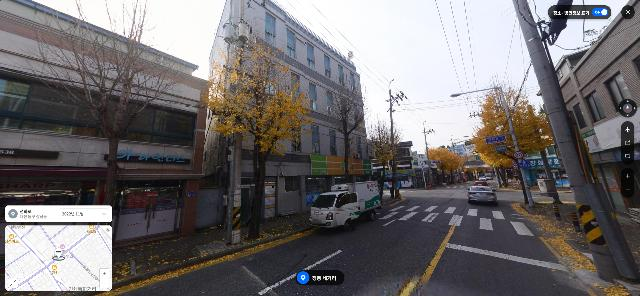ginkgo: (203, 39, 315, 236), (472, 72, 560, 205), (365, 116, 402, 206), (427, 148, 454, 185), (451, 154, 464, 183)
other: (9, 0, 196, 207), (328, 75, 369, 180)
